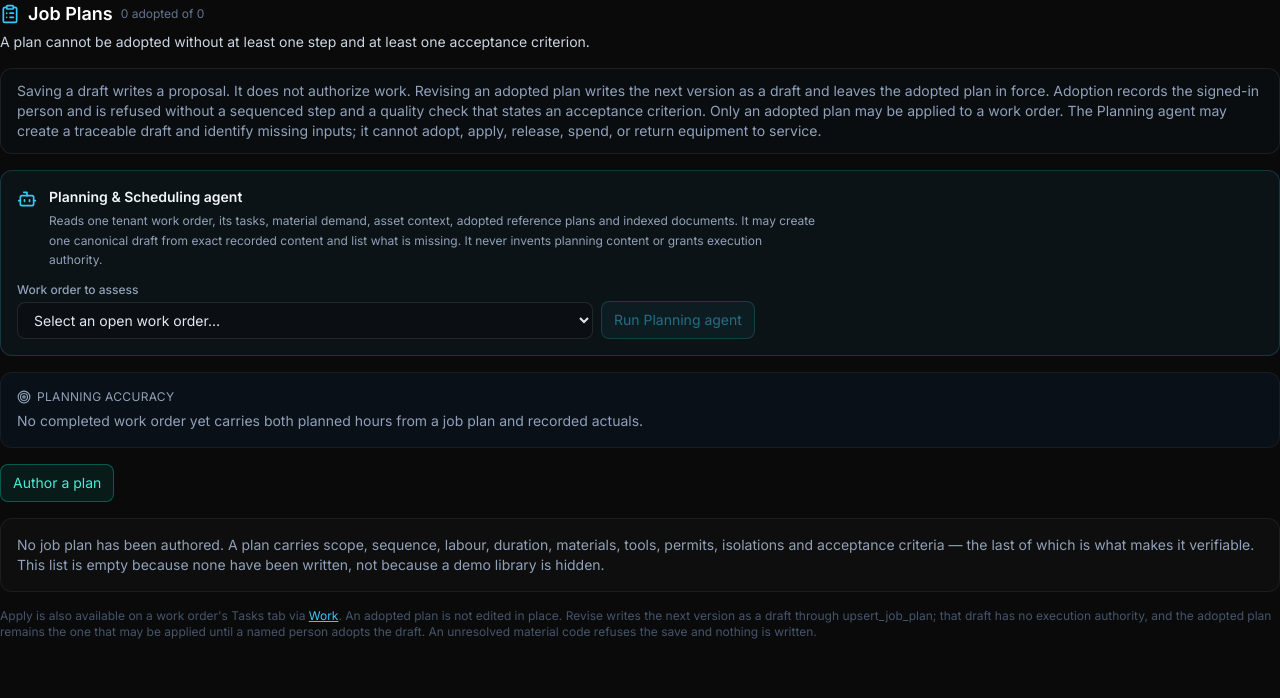
Test case: JobPlans authoring surface › runs the governed Planning agent, shows its gaps, and opens its draft for human review
Step 1. Select "WO-100 — Pump leak" in the dropdown named "Work order for Planning agent" → [305, 320], box [17,302,593,338]
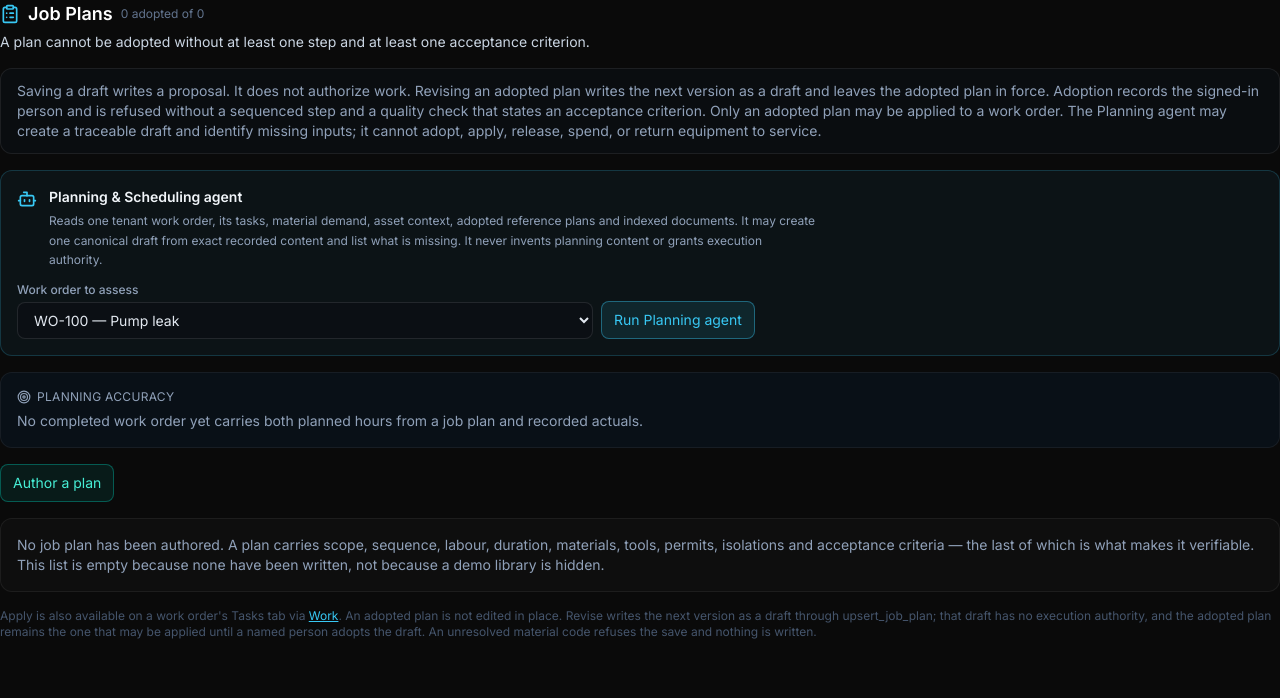
Step 2. Click the button "Run Planning agent" → [678, 320], box [601,300,755,338]
(page scrolled)
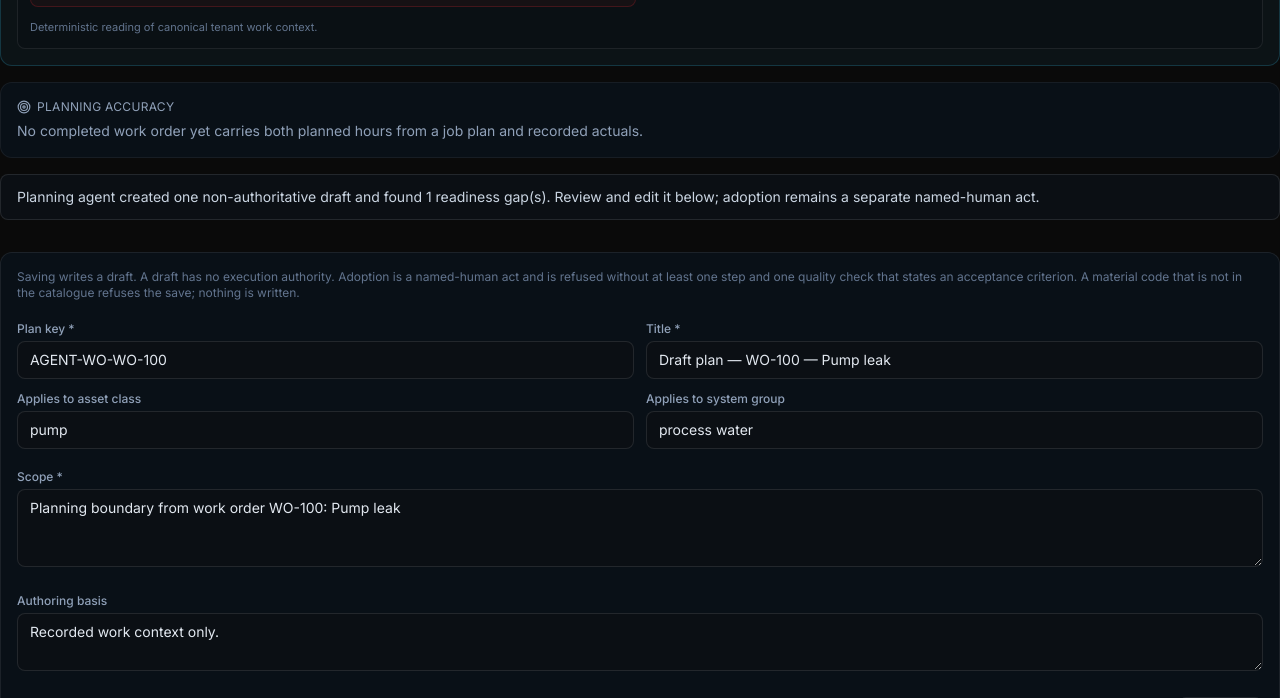
Now the field named "Plan title" holds "Draft plan — WO-100 — Pump leak", box [646,341,1263,379]
